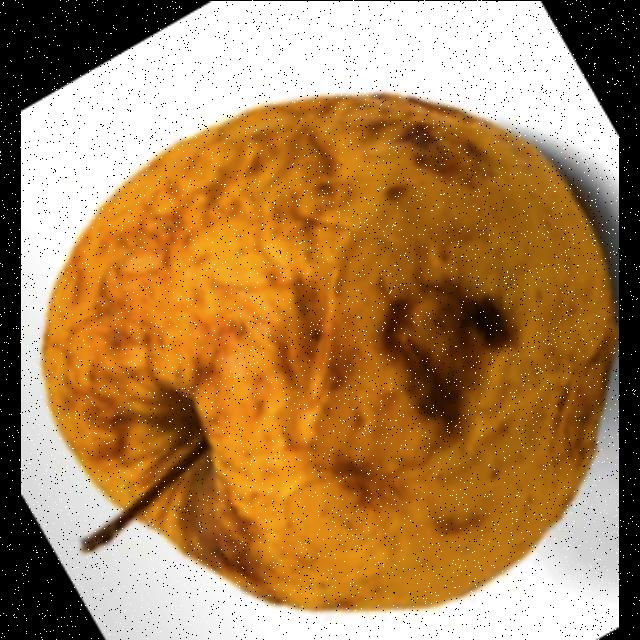Apel Tidak Segar: (35, 88, 619, 602)
